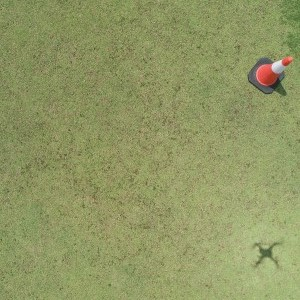traffic cone: (248, 56, 293, 94)
